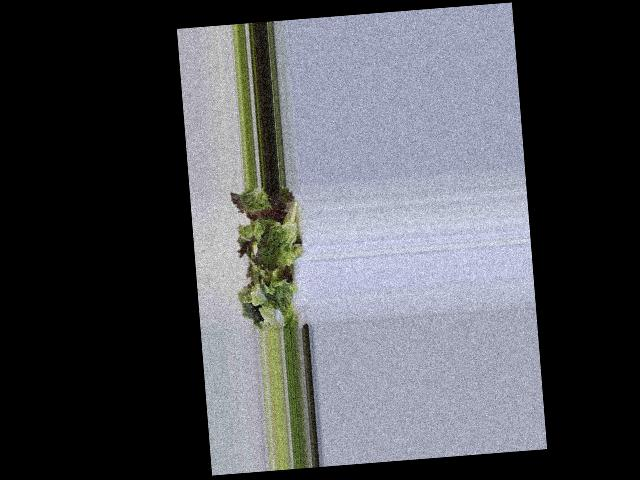lettuce: (213, 189, 325, 298)
